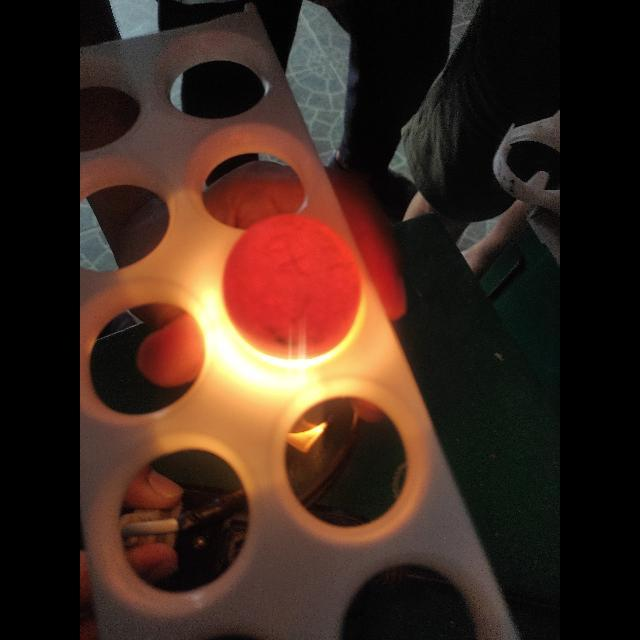Infertile: (222, 215, 362, 353)
